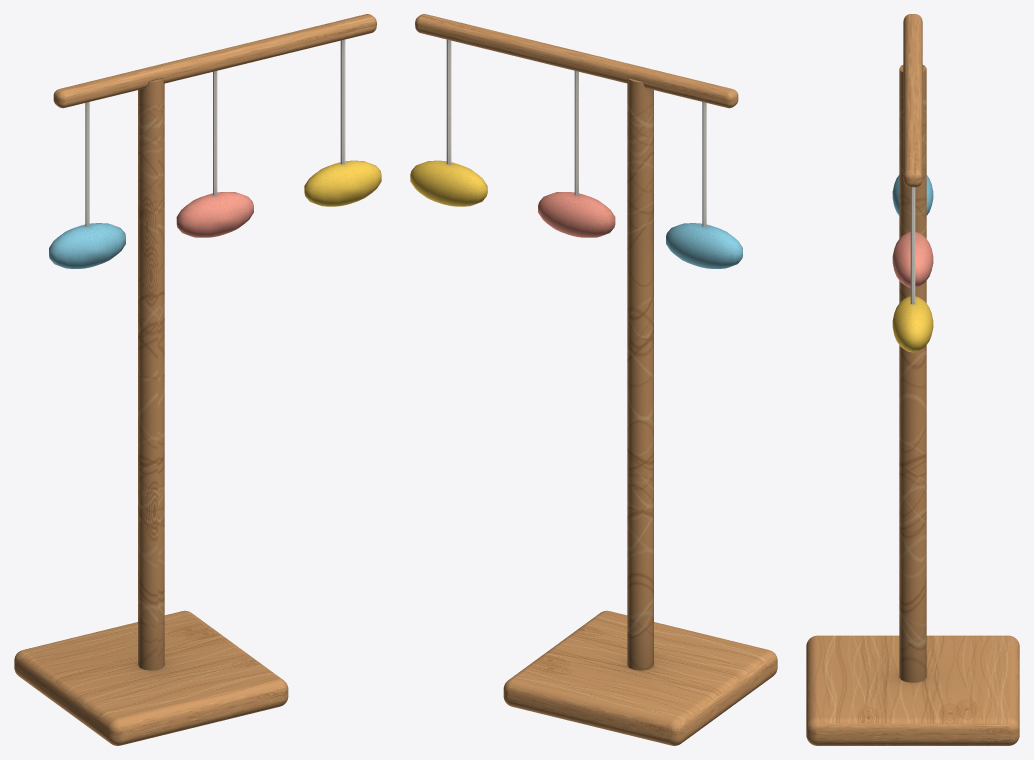
Rendered from fish_mobile.glb.
3 renders of one model, left to right at view 1: azimuth 30°, elevation 25°; view 2: azimuth 150°, elevation 25°; view 3: azimuth 270°, elevation 25°, orthographic. The views are drawn at different scales.
Visible parts, largest first — view 1: fish_mobile; view 2: fish_mobile; view 3: fish_mobile.
Boxes of the visible parts, left/top/right/bottom form: fish_mobile: left=14, top=14, right=381, bottom=745; fish_mobile: left=410, top=14, right=777, bottom=745; fish_mobile: left=806, top=14, right=1019, bottom=745.
Size of the model in its own units: 0.5182 by 0.9325 by 0.28.
1 material, 1 textured.
